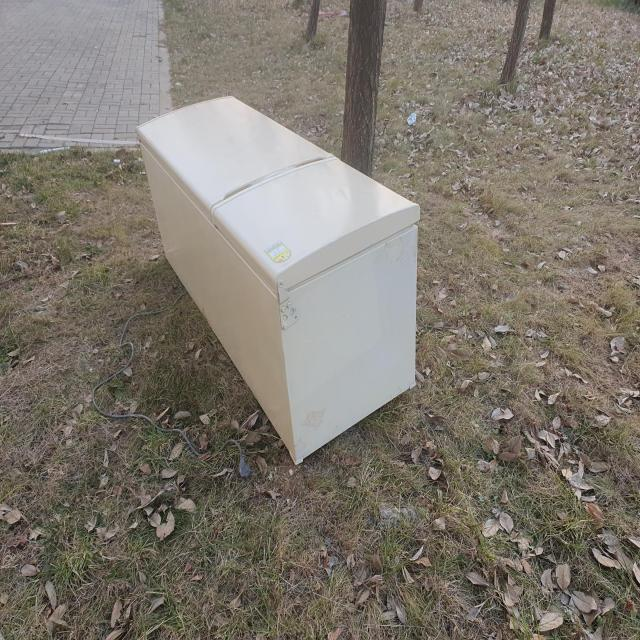refrigerator: (130, 90, 424, 473)
